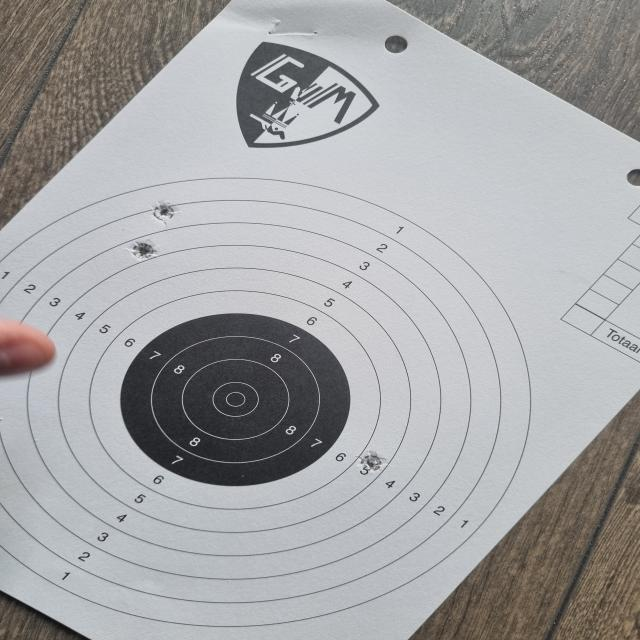3: (151, 202, 179, 220)
4: (130, 240, 160, 260)
7: (355, 456, 387, 470)
Black Contour: (122, 314, 352, 486)
Target: (0, 174, 535, 626)
